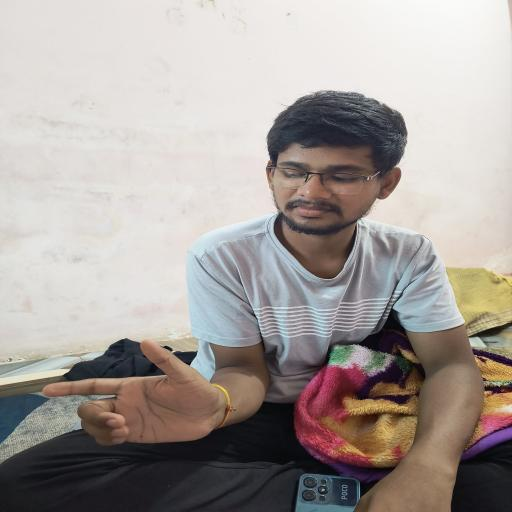Sorry: (28, 329, 259, 455)
